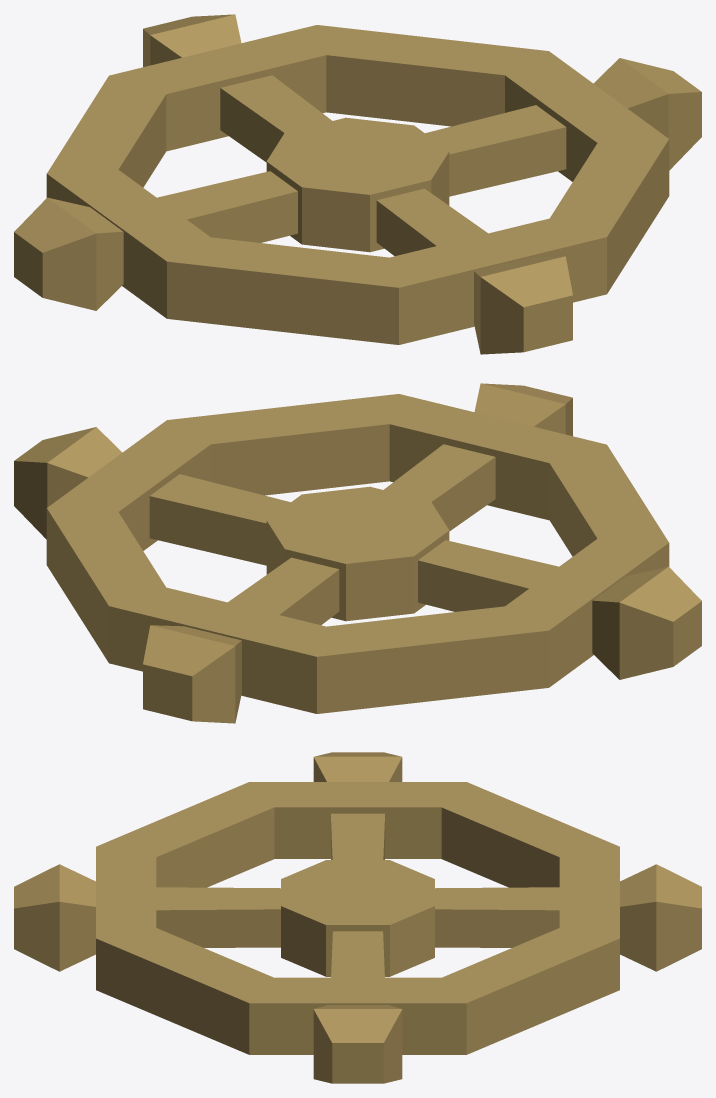
File: balloonSpinner.fbx
The picture shows the model from 3 angles, top to bottom: view 1: azimuth 30°, elevation 25°; view 2: azimuth 150°, elevation 25°; view 3: azimuth 270°, elevation 25°; orthographic projection. The views are drawn at different scales.
Parts seen in each view (by area): view 1: balloonSpinner; view 2: balloonSpinner; view 3: balloonSpinner.
Boxes of the visible parts, x1=… form: balloonSpinner: x1=14, y1=14, x2=701, y2=354; balloonSpinner: x1=14, y1=383, x2=701, y2=723; balloonSpinner: x1=14, y1=752, x2=701, y2=1083.
Bounding box in the file's own units: 1.12 × 0.1258 × 1.12.
1 material, 1 textured.
